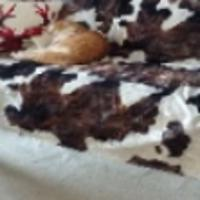asleep: (11, 16, 109, 69)
